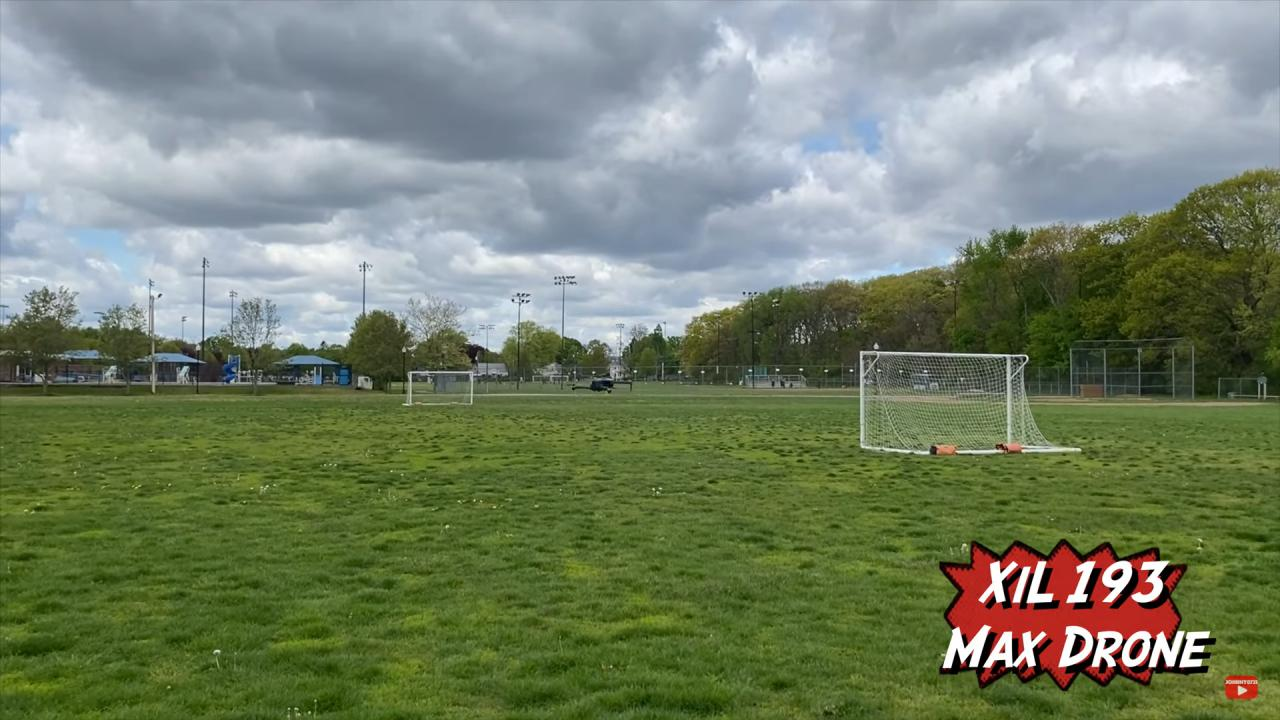Drone: (567, 371, 638, 400)
